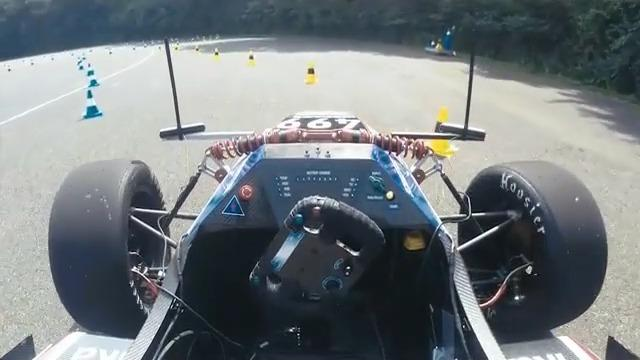blue_cone: (82, 88, 103, 118), (88, 71, 100, 89), (85, 63, 95, 77)
yellow_cone: (423, 105, 455, 158), (303, 61, 318, 85), (246, 51, 256, 67)
